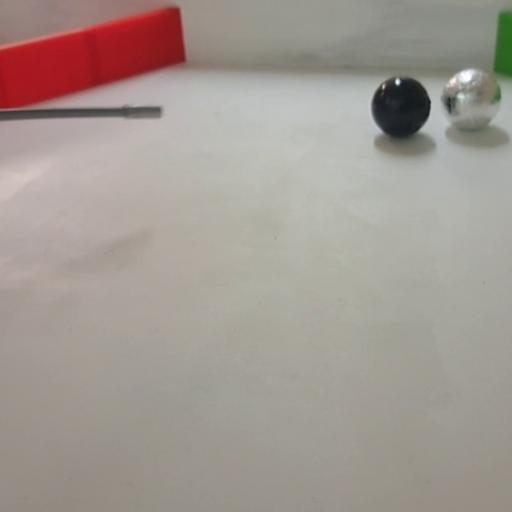alive: (439, 68, 502, 131)
dead: (368, 74, 433, 139)
